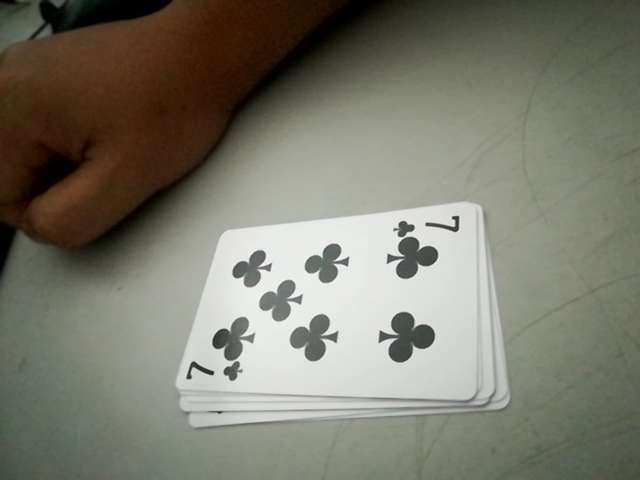mh 7: (179, 352, 244, 387), (395, 210, 470, 239)
